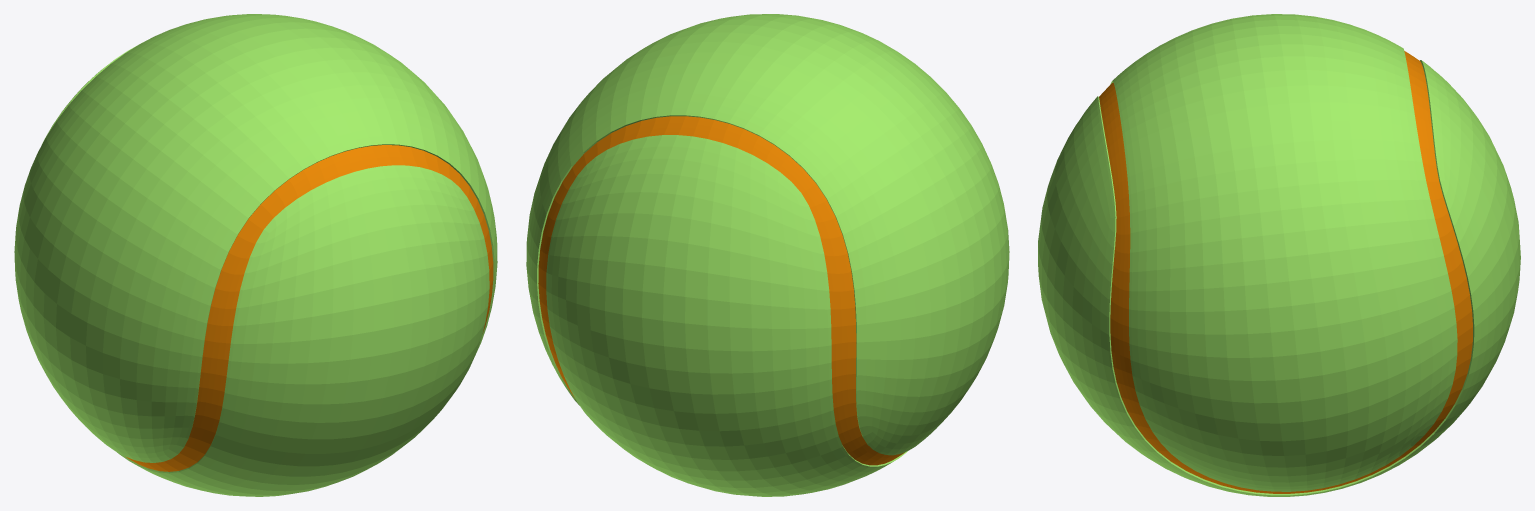
The model's file is asset.glb.
3 renders of one model, left to right at view 1: azimuth 30°, elevation 25°; view 2: azimuth 150°, elevation 25°; view 3: azimuth 270°, elevation 25°, orthographic.
Visible parts, largest first — view 1: tennisball; view 2: tennisball; view 3: tennisball.
Boxes of the visible parts, bbox=[...] form: tennisball: bbox=[14, 14, 497, 496]; tennisball: bbox=[526, 14, 1009, 496]; tennisball: bbox=[1038, 14, 1520, 496].
Size of the model in its own units: 230 by 230 by 230.
